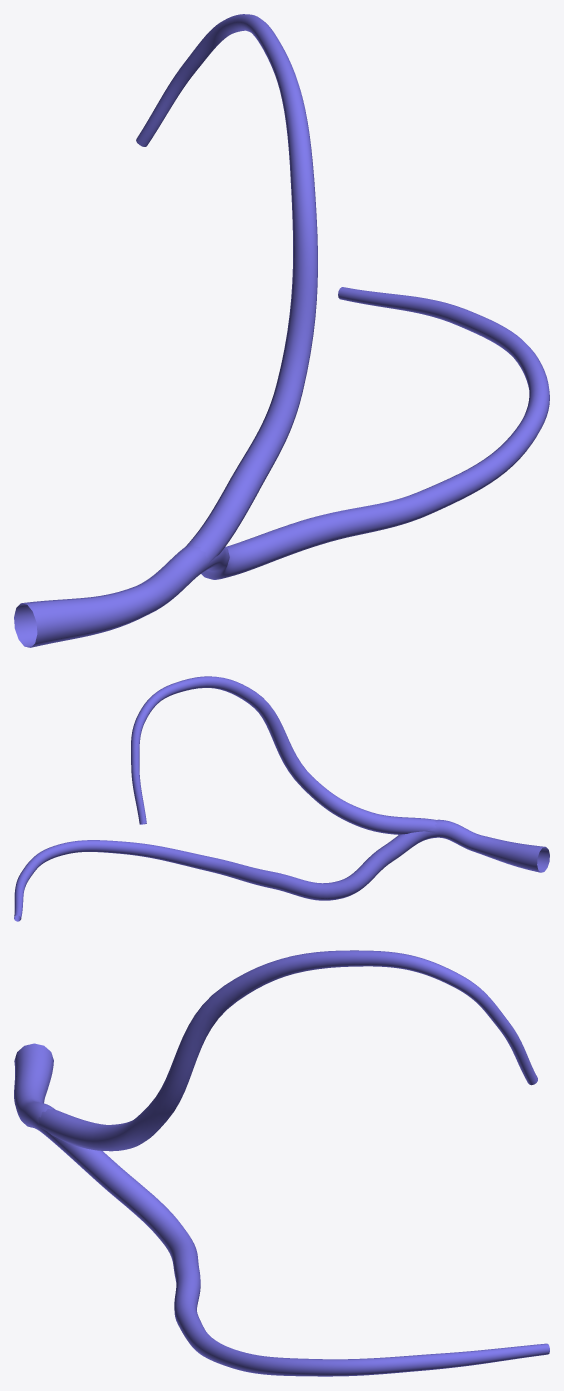
Rendered from Lateral_circumflex_femoral_veins.l_BezierCurve.320.glb.
The picture shows the model from 3 angles, top to bottom: view 1: azimuth 30°, elevation 25°; view 2: azimuth 150°, elevation 25°; view 3: azimuth 270°, elevation 25°; orthographic projection. The views are drawn at different scales.
Visible parts, largest first — view 1: Lateral_circumflex_femoral_veins.l_BezierCurve.320; view 2: Lateral_circumflex_femoral_veins.l_BezierCurve.320; view 3: Lateral_circumflex_femoral_veins.l_BezierCurve.320.
Boxes of the visible parts, bbox=[...] form: Lateral_circumflex_femoral_veins.l_BezierCurve.320: bbox=[14, 14, 549, 647]; Lateral_circumflex_femoral_veins.l_BezierCurve.320: bbox=[14, 676, 549, 921]; Lateral_circumflex_femoral_veins.l_BezierCurve.320: bbox=[14, 950, 549, 1376].
Bounding box in the file's own units: 0.0867 × 0.0509 × 0.0676.
